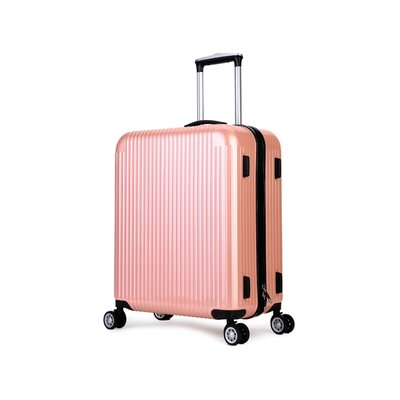luggage: (103, 53, 299, 344)
